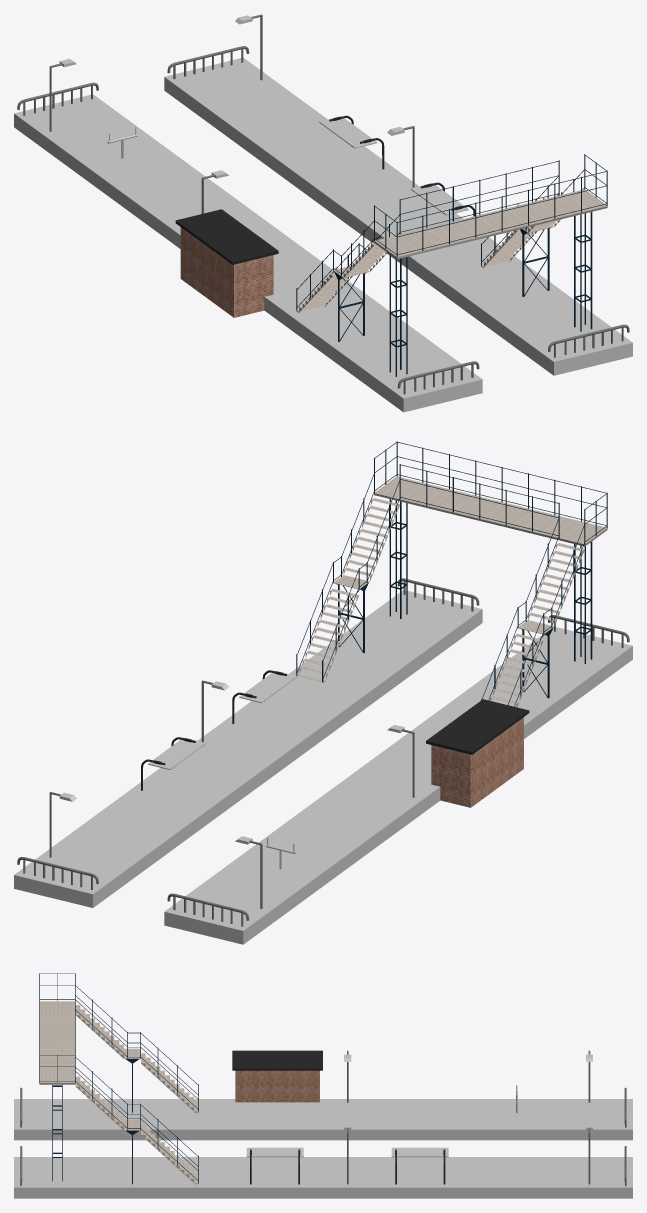
Rendered from stazione4.obj.
The picture shows the model from 3 angles, top to bottom: view 1: azimuth 30°, elevation 25°; view 2: azimuth 150°, elevation 25°; view 3: azimuth 270°, elevation 25°; orthographic projection. The views are drawn at different scales.
Parts seen in each view (by area): view 1: Cube.001_Cube.002, Cube_Cube.001, staircase_Cube, Cube.079_Cube.047, Cube.082_Cube.050, Cube.140_Cube.046, Cube.137_Cube.046; view 2: Cube.001_Cube.002, Cube_Cube.001, staircase_Cube, Cube.079_Cube.047, Cube.082_Cube.050, Cube.137_Cube.046, Cube.140_Cube.046; view 3: Cube.001_Cube.002, Cube_Cube.001, staircase_Cube, Cube.079_Cube.047, Cube.082_Cube.050, Cube.140_Cube.046, Cube.137_Cube.046.
Part boxes in pixels (box(x1,y1,x2,y2)): Cube.001_Cube.002: box(164, 58, 632, 375); Cube_Cube.001: box(14, 94, 482, 412); staircase_Cube: box(296, 189, 607, 312); Cube.079_Cube.047: box(180, 227, 273, 317); Cube.082_Cube.050: box(175, 209, 278, 264); Cube.140_Cube.046: box(319, 116, 377, 148); Cube.137_Cube.046: box(410, 183, 468, 215); Cube.001_Cube.002: box(14, 590, 482, 907); Cube_Cube.001: box(164, 627, 632, 944); staircase_Cube: box(297, 476, 607, 707); Cube.079_Cube.047: box(431, 717, 523, 807); Cube.082_Cube.050: box(426, 699, 529, 754); Cube.137_Cube.046: box(239, 671, 297, 703); Cube.140_Cube.046: box(148, 737, 205, 769); Cube.001_Cube.002: box(14, 1157, 632, 1198); Cube_Cube.001: box(14, 1099, 632, 1140); staircase_Cube: box(39, 1001, 198, 1184); Cube.079_Cube.047: box(235, 1070, 319, 1102); Cube.082_Cube.050: box(232, 1050, 322, 1070); Cube.140_Cube.046: box(391, 1147, 448, 1157); Cube.137_Cube.046: box(246, 1147, 303, 1157).
Size of the model in its own units: 100 by 63.93 by 256.
